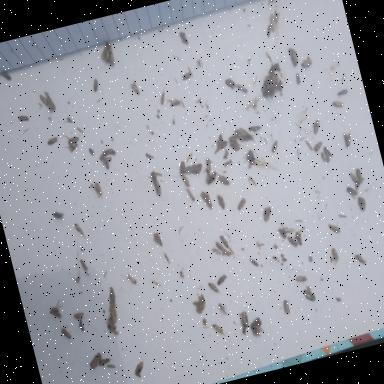pbw: (337, 130, 354, 150), (97, 40, 112, 60), (87, 351, 103, 369), (344, 184, 360, 201), (248, 316, 264, 333), (62, 131, 80, 146), (103, 312, 117, 331), (104, 44, 116, 66), (58, 322, 72, 340), (182, 184, 196, 202), (202, 190, 214, 210), (92, 180, 104, 200), (322, 144, 334, 164), (238, 308, 250, 328), (132, 360, 146, 377), (261, 205, 274, 223), (74, 221, 86, 240), (216, 170, 230, 186), (280, 220, 296, 234), (122, 271, 136, 287), (64, 140, 80, 154), (207, 279, 220, 296), (212, 321, 225, 338), (328, 221, 341, 238), (128, 78, 140, 96), (179, 170, 191, 188), (178, 28, 190, 46), (106, 322, 119, 338), (166, 94, 182, 107), (176, 159, 188, 176), (97, 356, 114, 368), (218, 232, 230, 249), (247, 122, 264, 134), (157, 86, 168, 104), (234, 196, 248, 210), (204, 170, 218, 184), (310, 118, 322, 134), (348, 170, 360, 186), (293, 226, 303, 245), (330, 247, 340, 265), (216, 192, 226, 210), (218, 300, 229, 316), (267, 74, 278, 90), (357, 195, 367, 212), (354, 166, 364, 183), (354, 252, 366, 266), (312, 139, 324, 153), (268, 138, 280, 152), (286, 234, 298, 248), (248, 255, 260, 268), (215, 274, 228, 286), (294, 273, 308, 284), (90, 77, 100, 92), (78, 258, 88, 273), (260, 84, 272, 96), (304, 290, 316, 302), (282, 298, 291, 314), (277, 226, 287, 240), (38, 92, 48, 106), (1, 70, 12, 82), (216, 139, 228, 150), (237, 81, 248, 93), (214, 240, 225, 252), (331, 98, 344, 108), (182, 164, 195, 174), (290, 50, 298, 66), (154, 230, 162, 246), (204, 155, 212, 171), (98, 149, 109, 160), (72, 310, 84, 320), (52, 209, 64, 219), (46, 136, 58, 146), (300, 58, 312, 68), (100, 154, 112, 164), (151, 231, 159, 245), (103, 146, 114, 156), (18, 112, 29, 122), (180, 71, 192, 80), (234, 126, 247, 134), (232, 137, 240, 150), (144, 150, 154, 160), (352, 181, 362, 191), (227, 76, 236, 87), (336, 88, 348, 96), (294, 72, 302, 84), (304, 283, 312, 295), (277, 79, 284, 92), (230, 142, 239, 152), (220, 249, 231, 256), (238, 134, 246, 140)
